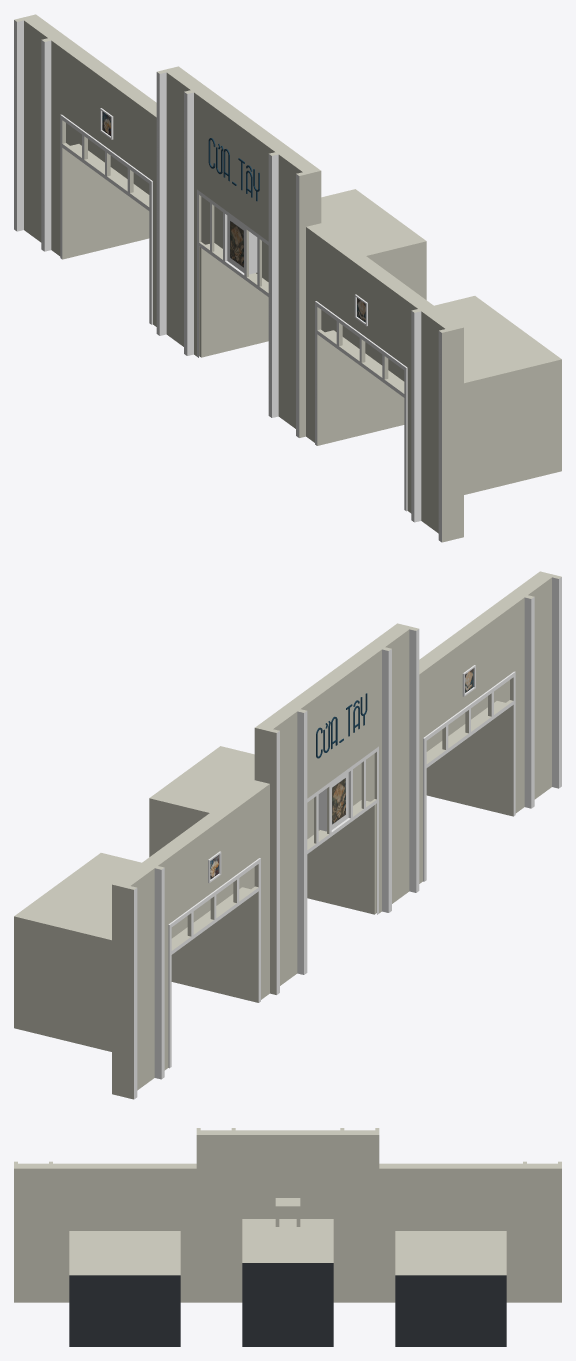
File: cuaTay.glb
3 renders of one model, top to bottom at view 1: azimuth 30°, elevation 25°; view 2: azimuth 150°, elevation 25°; view 3: azimuth 270°, elevation 25°, orthographic. The views are drawn at different scales.
Visible parts, largest first — view 1: _C-Component#17 (Loose Mesh).004, _C-Component#17 (Loose Mesh).005, _C-Component#8 (Loose Mesh).003, _C-Component#8 (Loose Mesh).002; view 2: _C-Component#17 (Loose Mesh).005, _C-Component#17 (Loose Mesh).004, _C-Component#8 (Loose Mesh).002, _C-Component#8 (Loose Mesh).003; view 3: _C-Component#17 (Loose Mesh).004, _C-Component#17 (Loose Mesh).005, _C-Component#8 (Loose Mesh).002, _C-Component#8 (Loose Mesh).003.
Boxes of the visible parts, bbox=[...] form: _C-Component#17 (Loose Mesh).004: bbox=[306, 223, 561, 542]; _C-Component#17 (Loose Mesh).005: bbox=[14, 14, 156, 326]; _C-Component#8 (Loose Mesh).003: bbox=[156, 66, 390, 357]; _C-Component#8 (Loose Mesh).002: bbox=[234, 118, 426, 437]; _C-Component#17 (Loose Mesh).005: bbox=[14, 780, 269, 1099]; _C-Component#17 (Loose Mesh).004: bbox=[419, 571, 561, 883]; _C-Component#8 (Loose Mesh).002: bbox=[185, 623, 419, 914]; _C-Component#8 (Loose Mesh).003: bbox=[149, 675, 341, 994]; _C-Component#17 (Loose Mesh).004: bbox=[14, 1161, 196, 1346]; _C-Component#17 (Loose Mesh).005: bbox=[379, 1161, 561, 1346]; _C-Component#8 (Loose Mesh).002: bbox=[196, 1128, 287, 1346]; _C-Component#8 (Loose Mesh).003: bbox=[288, 1128, 379, 1346].
Size of the model in its own units: 5.77 by 8.86 by 26.22.
6 materials, 2 textured.
